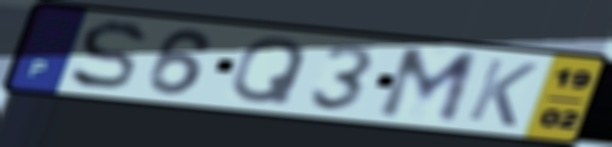3: (306, 43, 380, 113)
6: (144, 28, 218, 97)
K: (462, 55, 542, 130)
M: (372, 45, 484, 128)
Q: (227, 35, 312, 107)
S: (66, 18, 150, 93)
